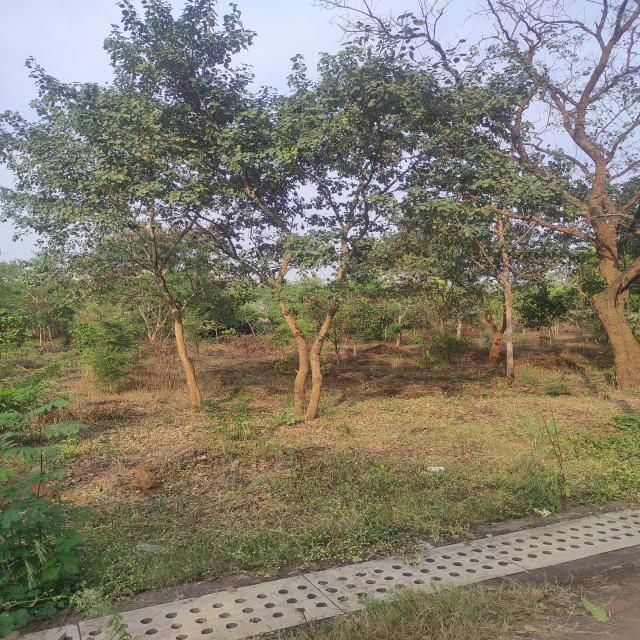Devakanchan tree: (93, 23, 451, 332)
